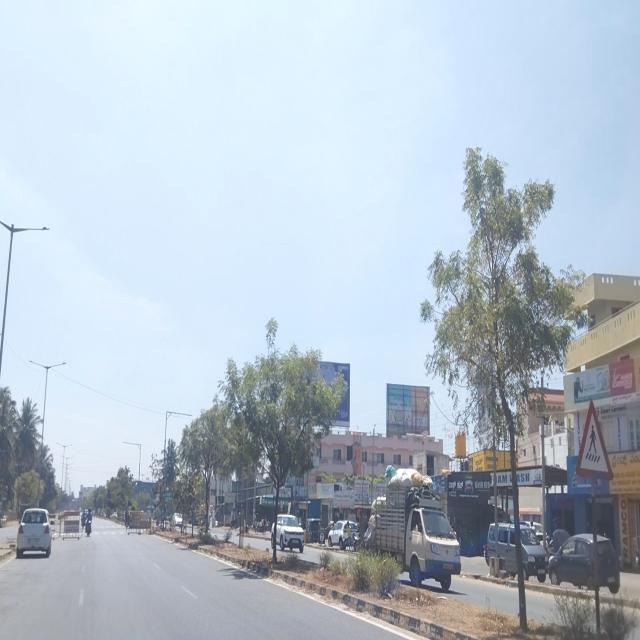bien_nguy_hiem: (576, 398, 614, 483)
